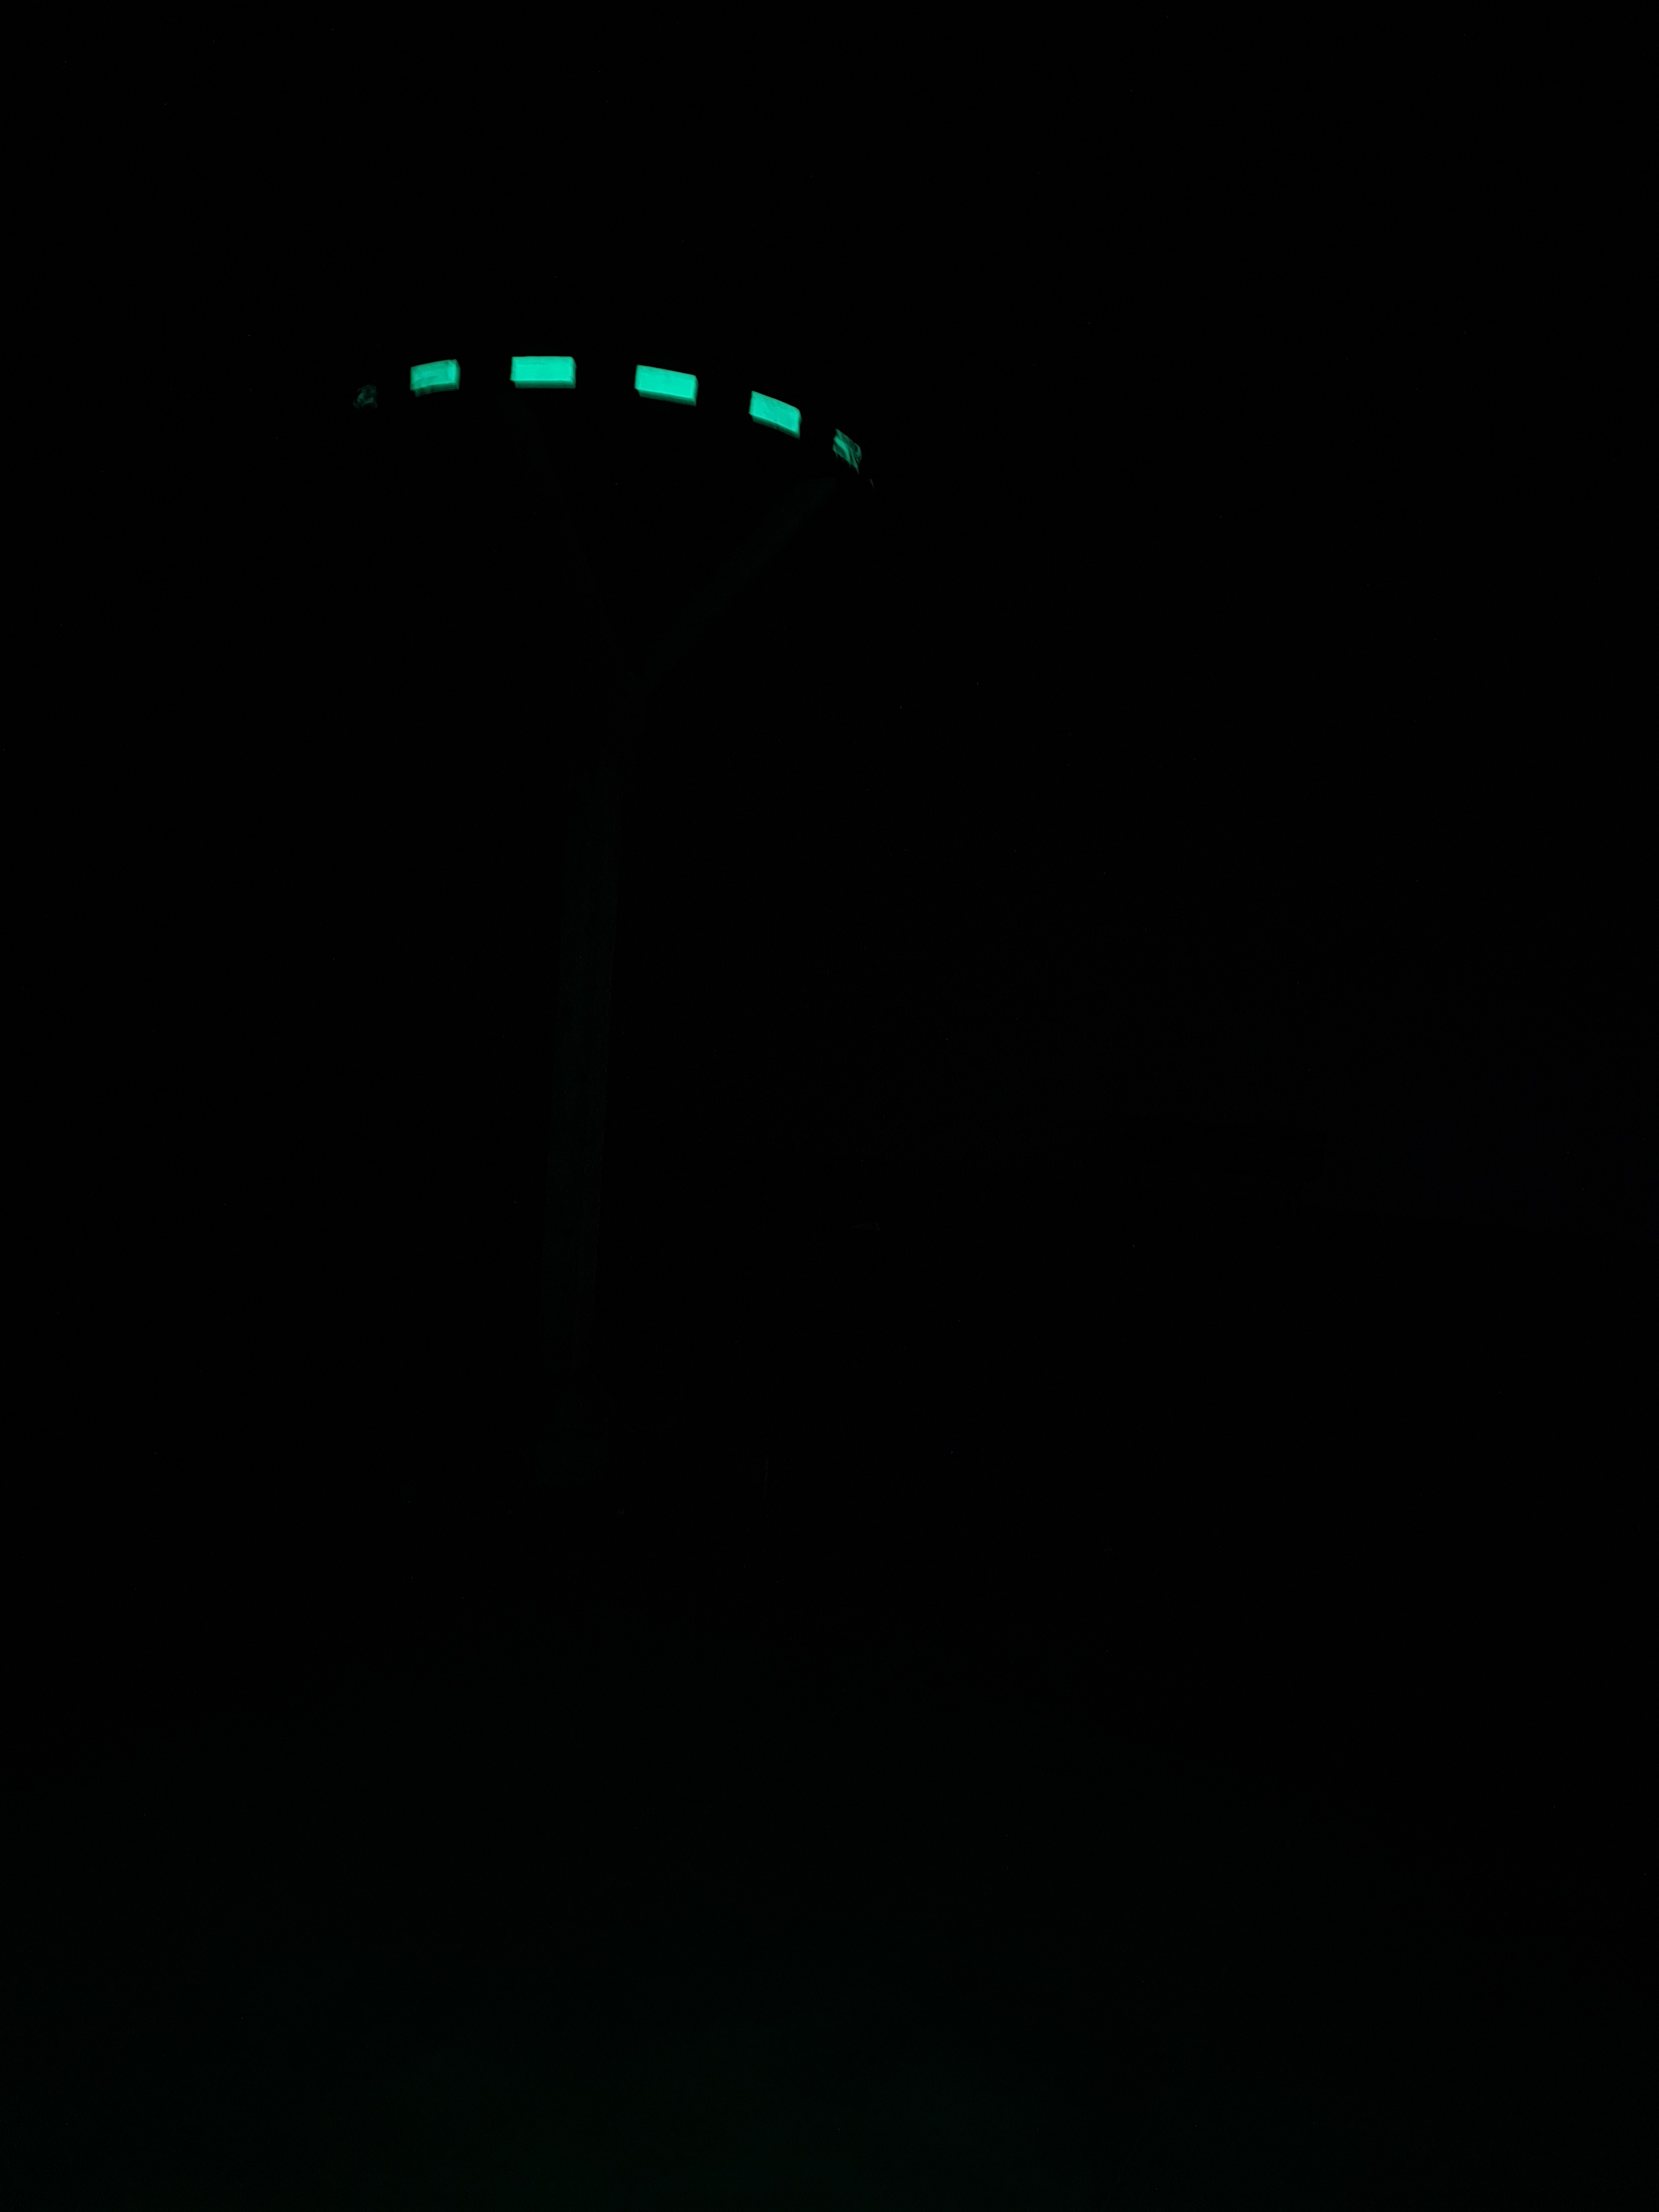hoop: (331, 350, 870, 477)
